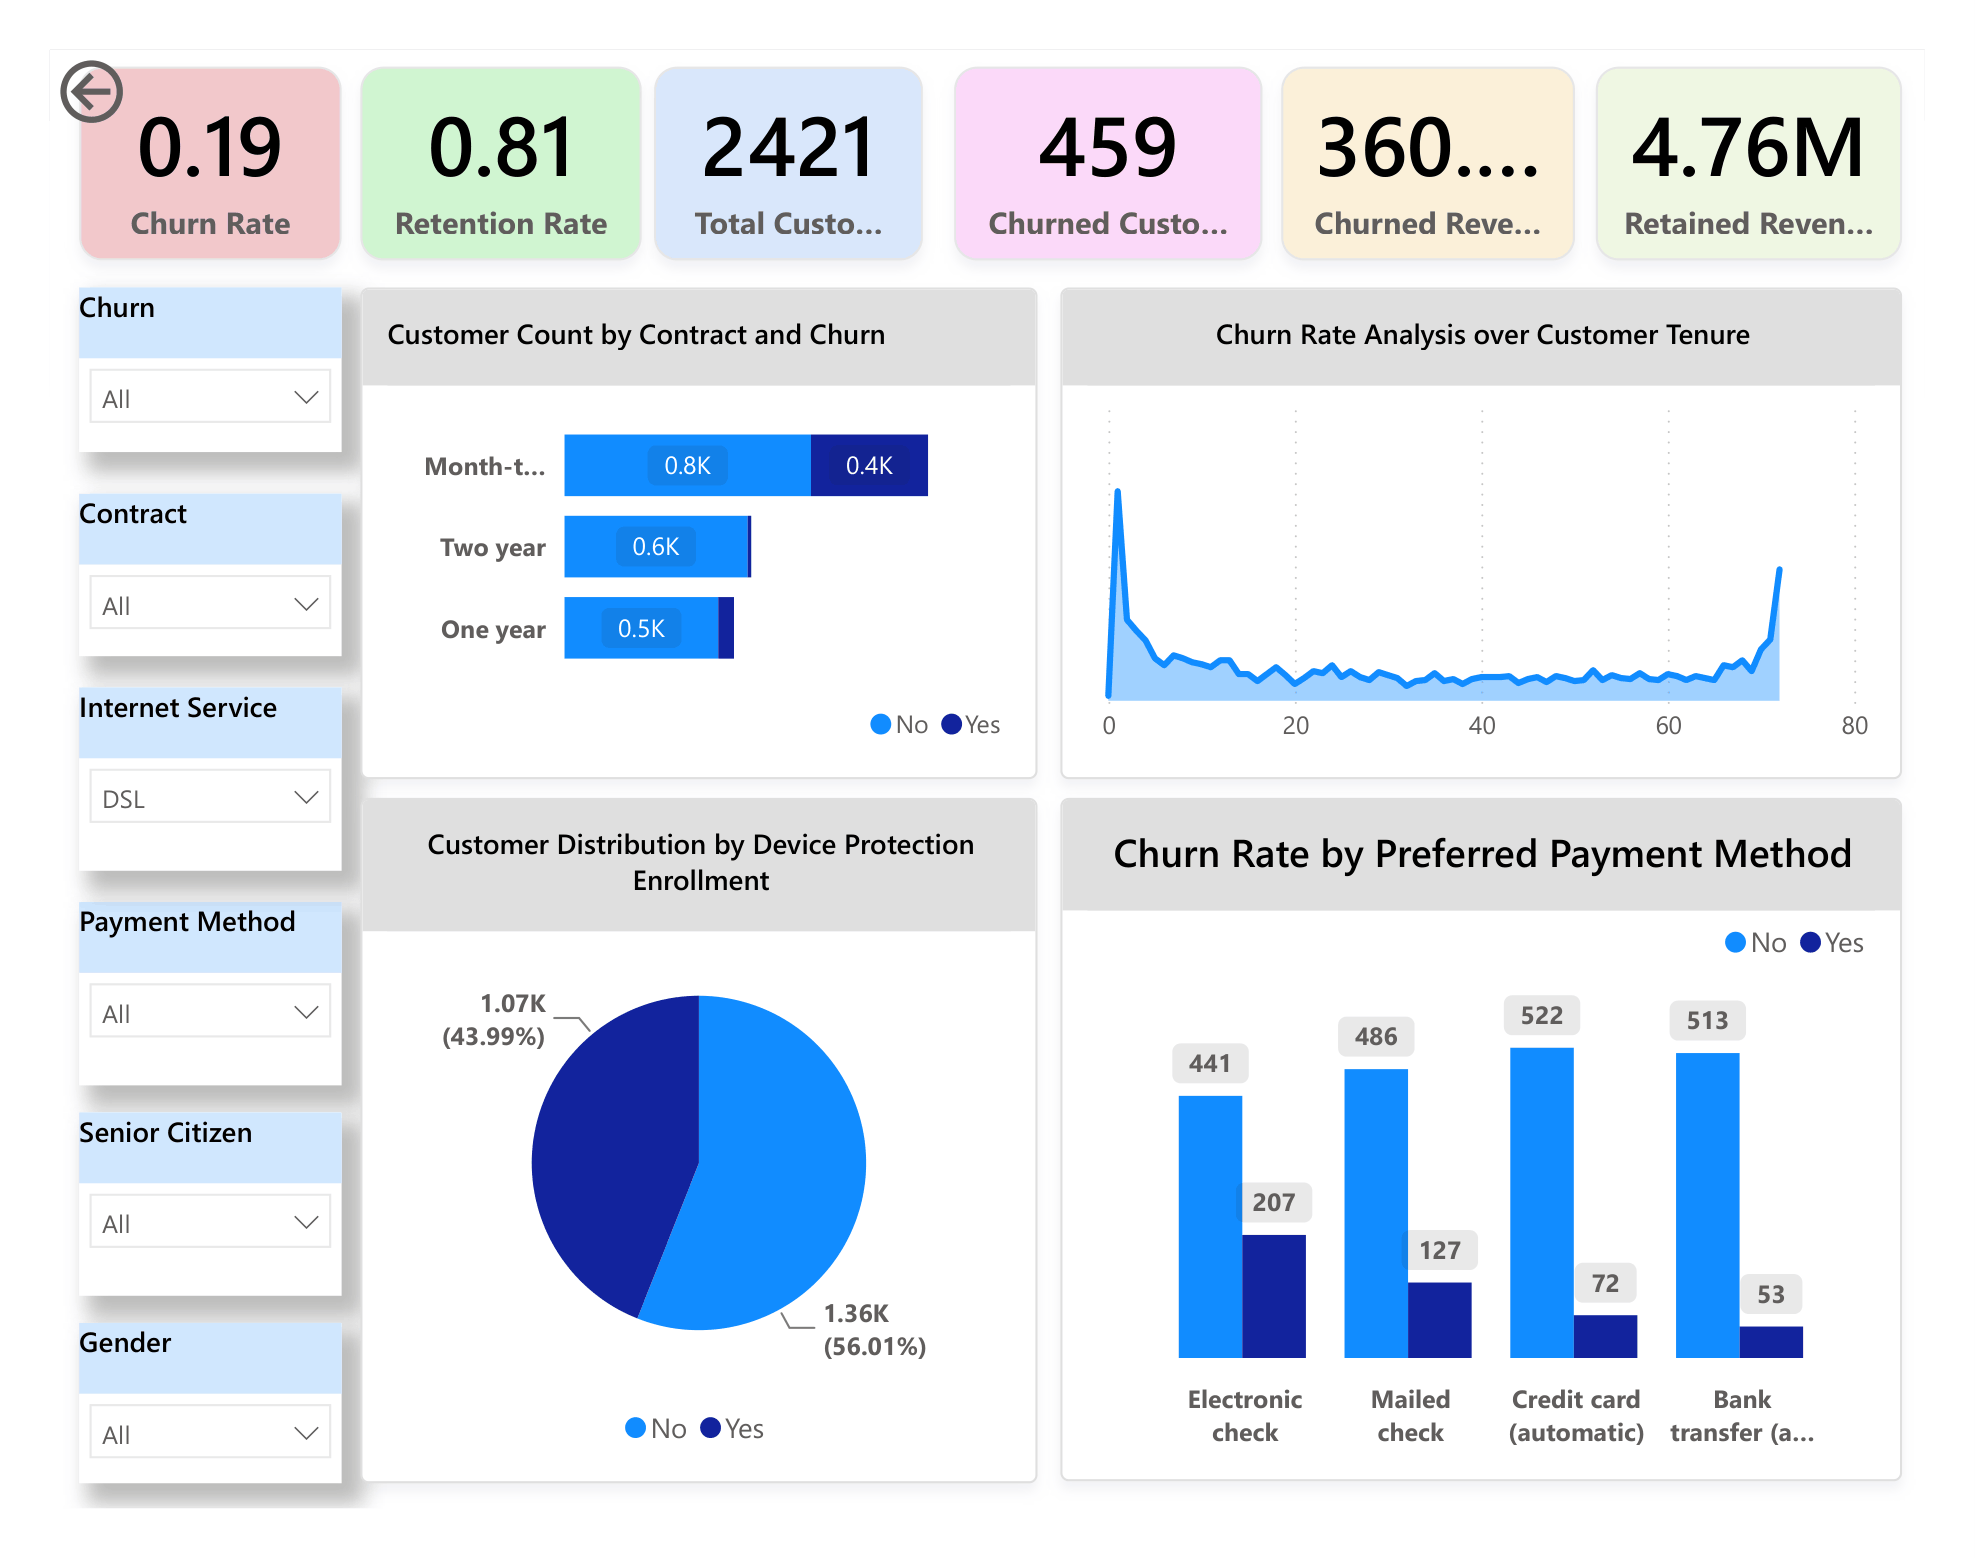

The dashboard page shown, as its layout file describes it:
{"tool":"powerbi","page":{"name":"Detailed Analysis & Insights","canvas":[900,700],"ordinal":1},"visuals":[{"type":"clusteredColumnChart","title":"Churn Rate by Preferred Payment Method ","fields":{"Category":["WA_Fn-UseC_-Telco-Customer-Churn.PaymentMethod"],"Series":["WA_Fn-UseC_-Telco-Customer-Churn.Churn"],"Y":["CountNonNull(WA_Fn-UseC_-Telco-Customer-Churn.customerID)"]},"box":[485.4,359.4,403.3,327.6],"z":0},{"type":"slicer","title":"Churn","fields":{"Values":["WA_Fn-UseC_-Telco-Customer-Churn.Churn"]},"box":[14.2,114,126,78.9],"z":1000},{"type":"slicer","title":"Payment Method","fields":{"Values":["WA_Fn-UseC_-Telco-Customer-Churn.PaymentMethod"]},"box":[14.2,408.7,126,88.8],"z":2000},{"type":"slicer","title":"Contract","fields":{"Values":["WA_Fn-UseC_-Telco-Customer-Churn.Contract"]},"box":[14.2,212.6,126,78.9],"z":3000},{"type":"slicer","title":"Internet Service","fields":{"Values":["WA_Fn-UseC_-Telco-Customer-Churn.InternetService"]},"box":[14.2,305.7,126,88.8],"z":4000},{"type":"slicer","title":"Senior Citizen","fields":{"Values":["WA_Fn-UseC_-Telco-Customer-Churn.SeniorCitizen"]},"box":[14.2,509.6,126,88.8],"z":5000},{"type":"slicer","title":"Gender","fields":{"Values":["WA_Fn-UseC_-Telco-Customer-Churn.gender"]},"box":[14.2,611.5,126,76.7],"z":6000},{"type":"barChart","title":"Customer Count by Contract and Churn ","fields":{"Category":["WA_Fn-UseC_-Telco-Customer-Churn.Contract"],"Series":["WA_Fn-UseC_-Telco-Customer-Churn.Churn"],"Y":["CountNonNull(WA_Fn-UseC_-Telco-Customer-Churn.customerID)"]},"box":[149,114,325.5,235.6],"z":7000},{"type":"card","fields":{"Values":["WA_Fn-UseC_-Telco-Customer-Churn.Churn Rate"]},"box":[14.2,7.7,126,93.1],"z":8000},{"type":"card","fields":{"Values":["WA_Fn-UseC_-Telco-Customer-Churn.Churned Customers"]},"box":[433.9,7.7,147.9,93.1],"z":9000},{"type":"card","fields":{"Values":["WA_Fn-UseC_-Telco-Customer-Churn.Retention Rate"]},"box":[149,7.7,134.8,93.1],"z":10000},{"type":"card","fields":{"Values":["Count(WA_Fn-UseC_-Telco-Customer-Churn.customerID)"]},"box":[290.4,7.7,128.2,93.1],"z":11000},{"type":"card","fields":{"Values":["WA_Fn-UseC_-Telco-Customer-Churn.Churned Revenue"]},"box":[590.6,7.7,141.4,93.1],"z":12000},{"type":"card","fields":{"Values":["WA_Fn-UseC_-Telco-Customer-Churn.Retained Revenue"]},"box":[741.9,7.7,146.8,93.1],"z":13000},{"type":"areaChart","title":"Churn Rate Analysis over Customer Tenure","fields":{"Category":["WA_Fn-UseC_-Telco-Customer-Churn.tenure"],"Y":["CountNonNull(WA_Fn-UseC_-Telco-Customer-Churn.Churn)"]},"box":[485.4,114,403.3,235.6],"z":14000},{"type":"actionButton","box":[0,0,100,40],"z":15000},{"type":"pieChart","title":"Customer Distribution by Device Protection Enrollment","fields":{"Category":["WA_Fn-UseC_-Telco-Customer-Churn.DeviceProtection"],"Y":["CountNonNull(WA_Fn-UseC_-Telco-Customer-Churn.customerID)"]},"box":[149,359.4,325.5,328.7],"z":16000}]}

Visuals, with their boxes on the page's 900x700 design canvas (x1, y1, x2, y2). These are canvas units, not pixel positions in the 1976x1559 screenshot, which may show the page scaled, cropped or inside an application window:
"Churn Rate by Preferred Payment Method " clusteredColumnChart: x1=485 y1=359 x2=889 y2=687
"Churn" slicer: x1=14 y1=114 x2=140 y2=193
"Payment Method" slicer: x1=14 y1=409 x2=140 y2=498
"Contract" slicer: x1=14 y1=213 x2=140 y2=292
"Internet Service" slicer: x1=14 y1=306 x2=140 y2=394
"Senior Citizen" slicer: x1=14 y1=510 x2=140 y2=598
"Gender" slicer: x1=14 y1=612 x2=140 y2=688
"Customer Count by Contract and Churn " barChart: x1=149 y1=114 x2=474 y2=350
card - WA_Fn-UseC_-Telco-Customer-Churn.Churn Rate: x1=14 y1=8 x2=140 y2=101
card - WA_Fn-UseC_-Telco-Customer-Churn.Churned Customers: x1=434 y1=8 x2=582 y2=101
card - WA_Fn-UseC_-Telco-Customer-Churn.Retention Rate: x1=149 y1=8 x2=284 y2=101
card - Count(WA_Fn-UseC_-Telco-Customer-Churn.customerID): x1=290 y1=8 x2=419 y2=101
card - WA_Fn-UseC_-Telco-Customer-Churn.Churned Revenue: x1=591 y1=8 x2=732 y2=101
card - WA_Fn-UseC_-Telco-Customer-Churn.Retained Revenue: x1=742 y1=8 x2=889 y2=101
"Churn Rate Analysis over Customer Tenure" areaChart: x1=485 y1=114 x2=889 y2=350
actionButton: x1=0 y1=0 x2=100 y2=40
"Customer Distribution by Device Protection Enrollment" pieChart: x1=149 y1=359 x2=474 y2=688
